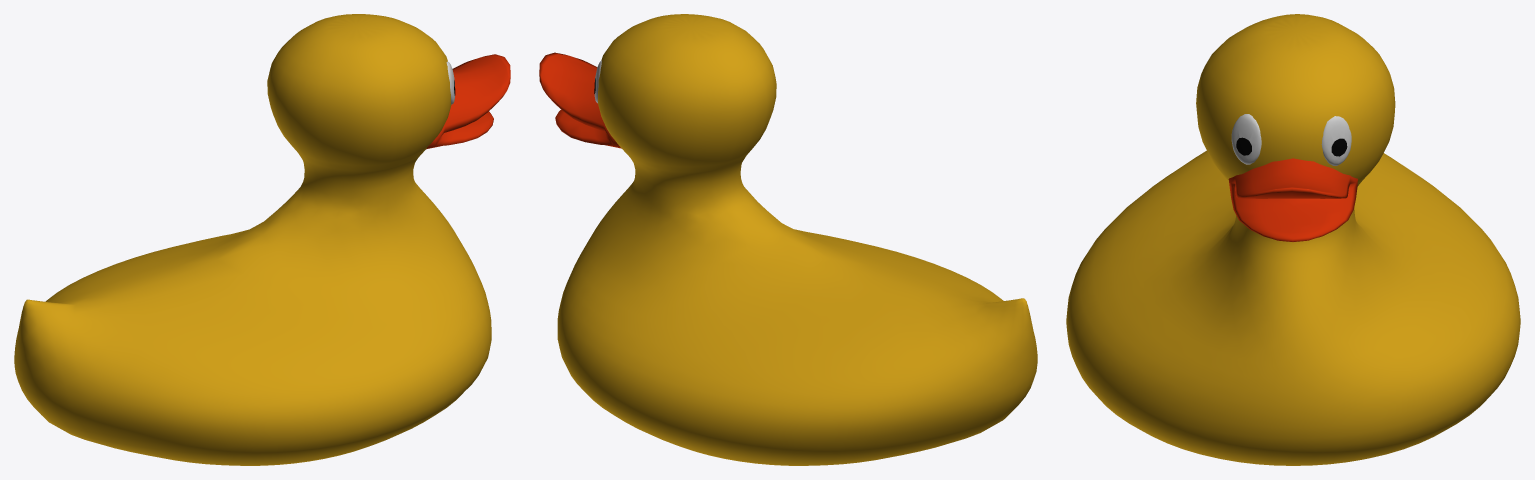
Rendered from rubberduckie.obj.
3 views of the same model, side by side, from view 1: azimuth 30°, elevation 25°; view 2: azimuth 150°, elevation 25°; view 3: azimuth 270°, elevation 25° (orthographic). The views are drawn at different scales.
Parts seen in each view (by area): view 1: RubberDuck, Beak; view 2: RubberDuck, Beak; view 3: RubberDuck, Beak.
Part boxes in pixels (x1,y1,x2,y2): RubberDuck: [14, 14, 491, 465]; Beak: [426, 54, 510, 149]; RubberDuck: [557, 14, 1037, 465]; Beak: [539, 52, 621, 148]; RubberDuck: [1066, 14, 1520, 465]; Beak: [1228, 114, 1357, 241].
Size of the model in its own units: 3.99 by 2.81 by 2.82.
